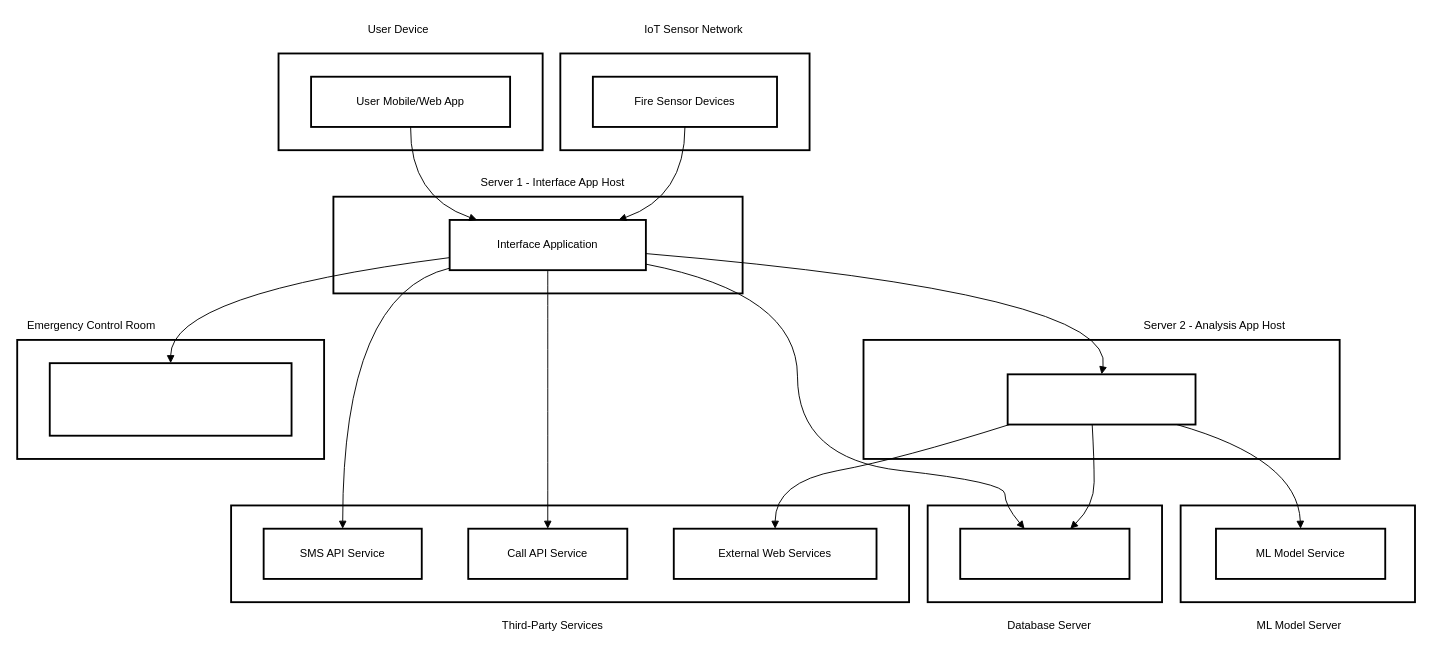
Some shapes in this 1431 by 655 pixel diagram are drawn without their labels. Each missing label, with the centre of its shape:
"Analysis Application" goes at pixel 1101 399.
"Database Service" goes at pixel 1044 553.
"Emergency Operator System" goes at pixel 170 399.
